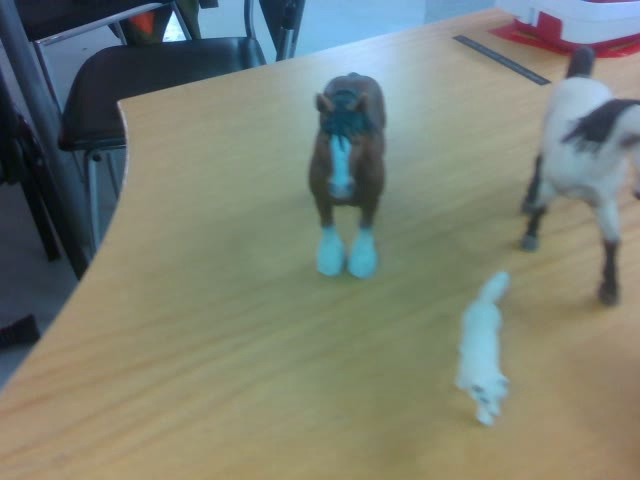toy: (305, 70, 388, 276), (455, 271, 509, 427)
